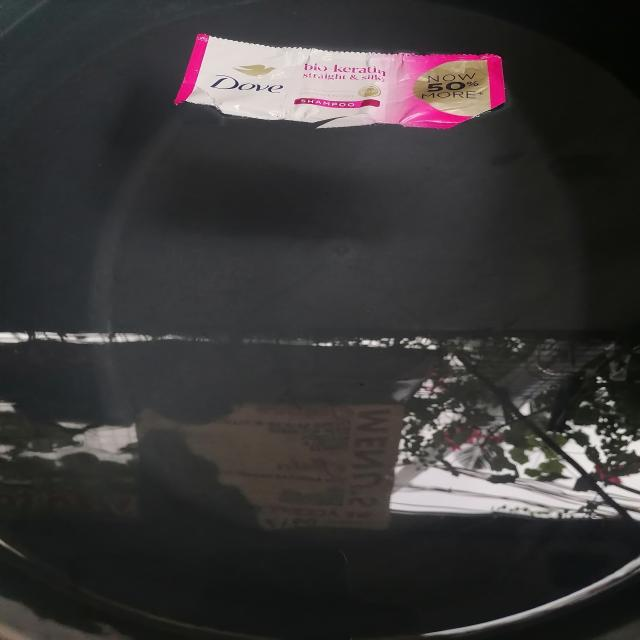Plastic Wrapper: (158, 18, 535, 139)
